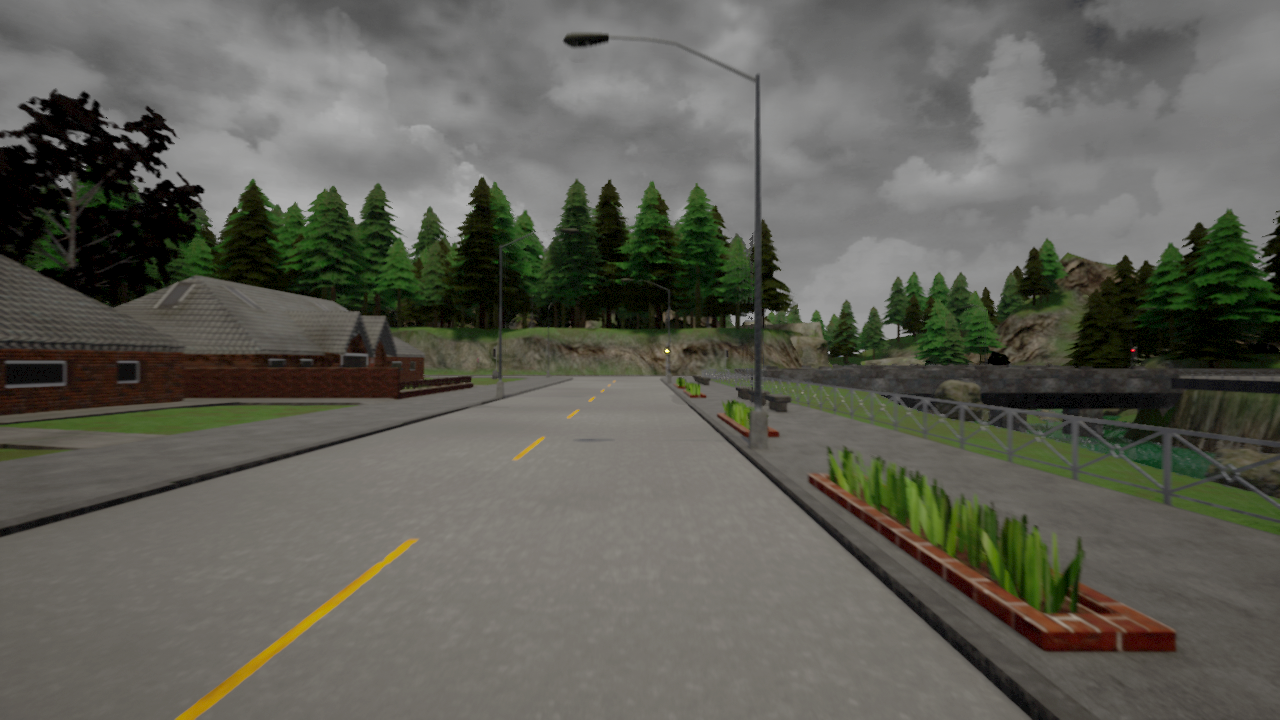yellow: (664, 343, 670, 358)
